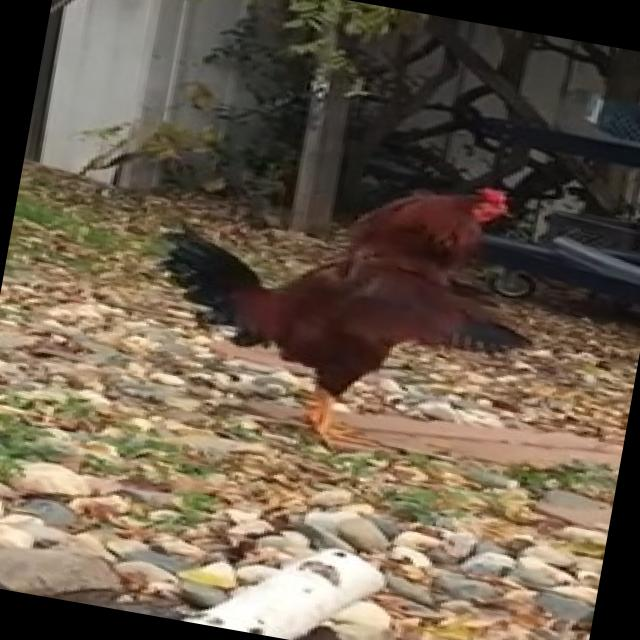wing flap: (115, 112, 594, 484)
